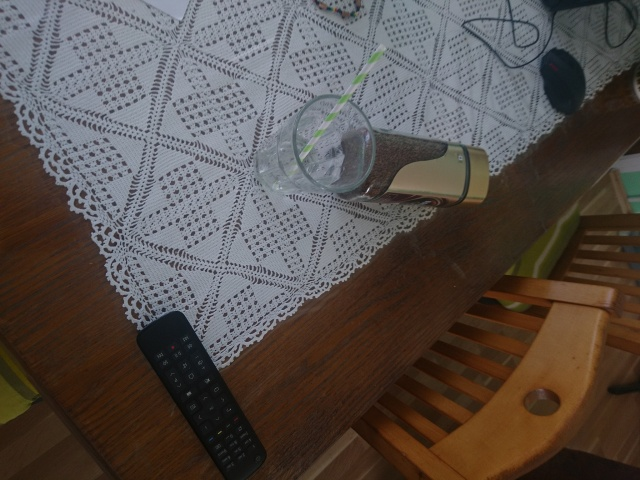Nescafe Gold 225g: (329, 124, 492, 210)
